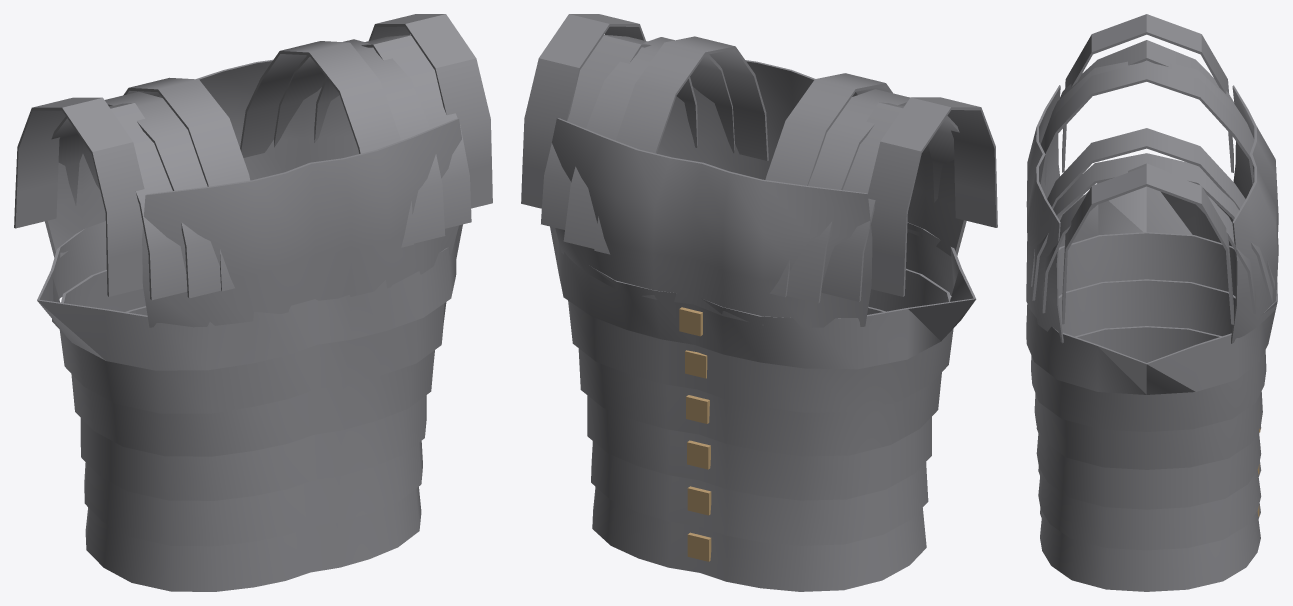
File: lorica_segmentata.glb
3 renders of one model, left to right at view 1: azimuth 30°, elevation 25°; view 2: azimuth 150°, elevation 25°; view 3: azimuth 270°, elevation 25°, orthographic. The views are drawn at different scales.
Parts seen in each view (by area): view 1: OUT; view 2: OUT; view 3: OUT.
Part boxes in pixels (bbox=[...]): OUT: bbox=[14, 14, 492, 591]; OUT: bbox=[521, 14, 997, 591]; OUT: bbox=[1026, 14, 1278, 591].
Bounding box in the file's own units: 0.4888 × 0.5055 × 0.2714.
